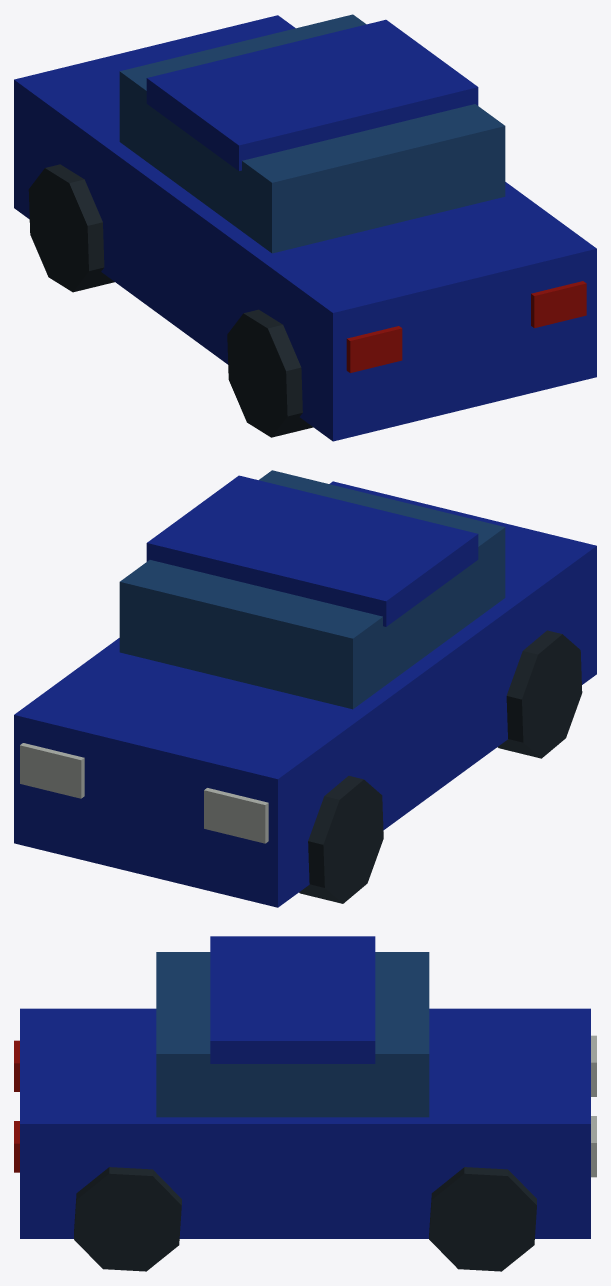
File: car-blue.glb
The picture shows the model from 3 angles, top to bottom: view 1: azimuth 30°, elevation 25°; view 2: azimuth 150°, elevation 25°; view 3: azimuth 270°, elevation 25°; orthographic projection. The views are drawn at different scales.
Parts seen in each view (by area): view 1: car-blue; view 2: car-blue; view 3: car-blue.
Part boxes in pixels (x1,y1,x2,y2): car-blue: [14, 14, 596, 441]; car-blue: [14, 470, 596, 907]; car-blue: [14, 936, 596, 1271].
Size of the model in its own units: 4.8 by 3.8 by 9.19.
